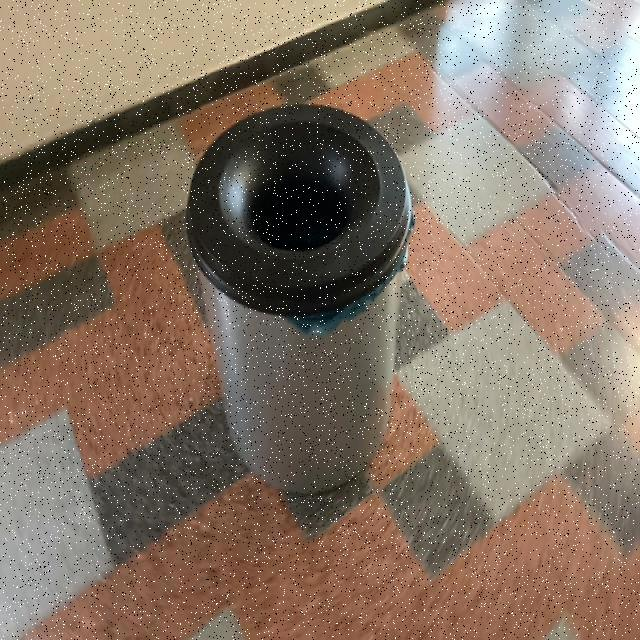garbage container: (165, 64, 428, 509)
